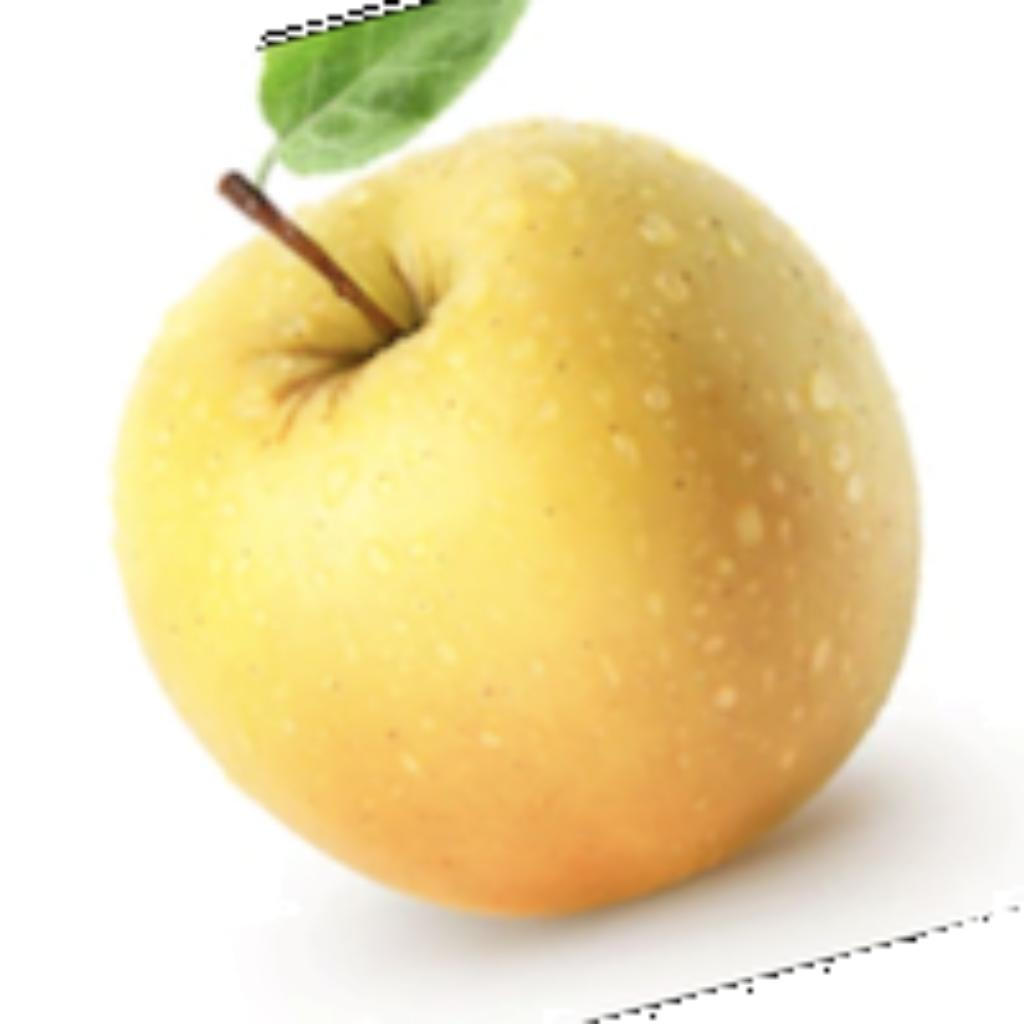apple: (102, 0, 927, 988)
